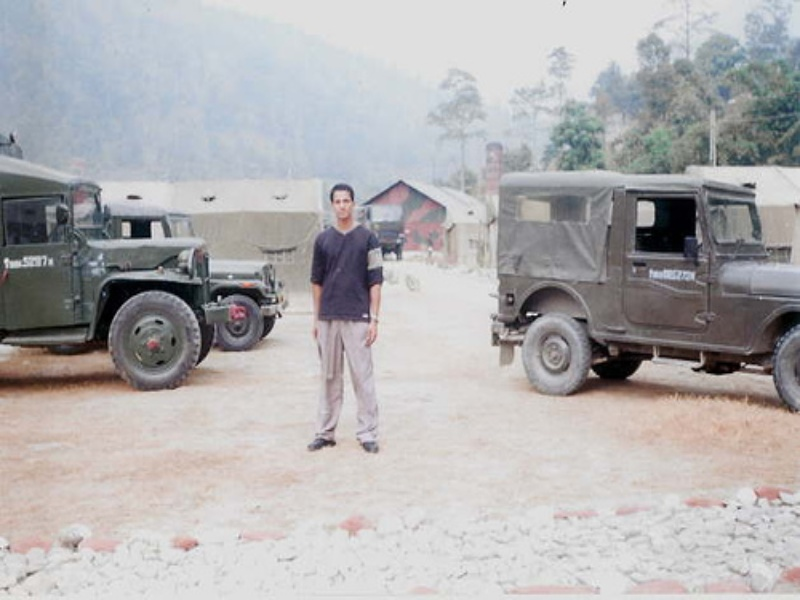car: (491, 171, 800, 412), (1, 150, 220, 387), (104, 201, 284, 351), (354, 204, 403, 259)
person: (306, 182, 383, 456)
